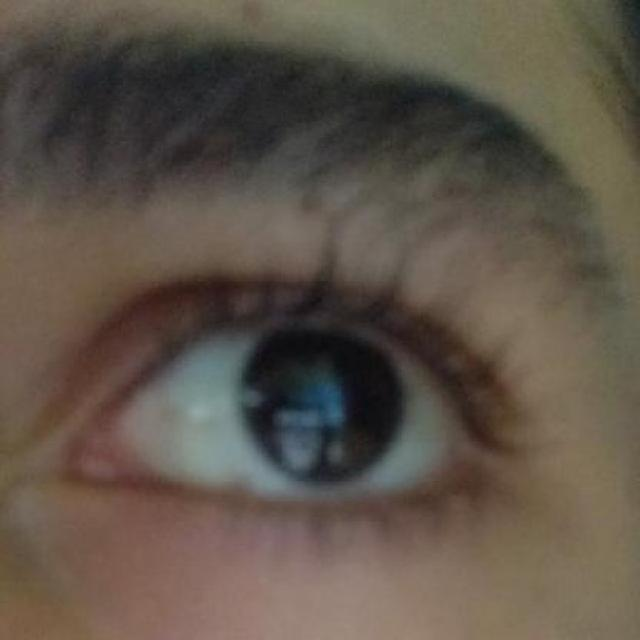awake: (43, 267, 531, 551)
